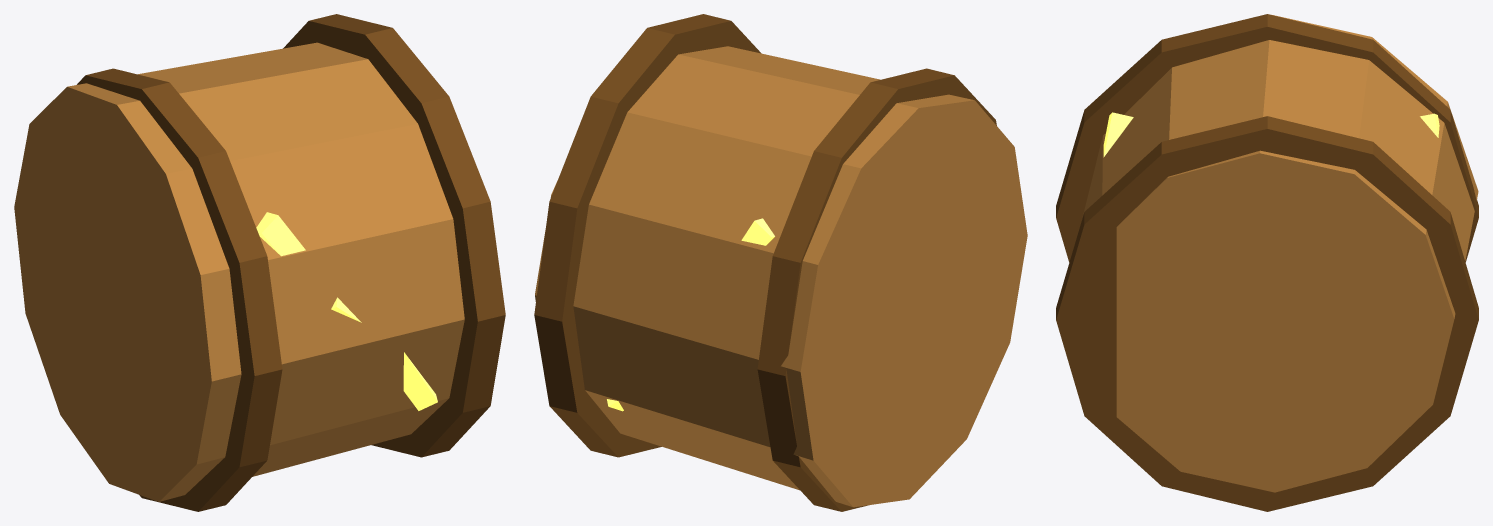
File: storm_titan_bracer_l.glb
The picture shows the model from 3 angles, left to right: view 1: azimuth 30°, elevation 25°; view 2: azimuth 150°, elevation 25°; view 3: azimuth 270°, elevation 25°; orthographic projection. The views are drawn at different scales.
Visible parts, largest first — view 1: storm_titan_bracer_l; view 2: storm_titan_bracer_l; view 3: storm_titan_bracer_l.
Boxes of the visible parts, bbox=[...] form: storm_titan_bracer_l: bbox=[14, 14, 505, 511]; storm_titan_bracer_l: bbox=[534, 14, 1027, 511]; storm_titan_bracer_l: bbox=[1056, 14, 1478, 511].
Bounding box in the file's own units: 0.2628 × 0.35 × 0.35.
